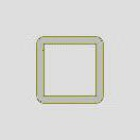CheckBox: (1, 1, 139, 139)
